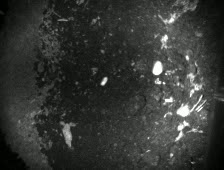corn: (151, 59, 164, 78), (97, 75, 110, 87)
